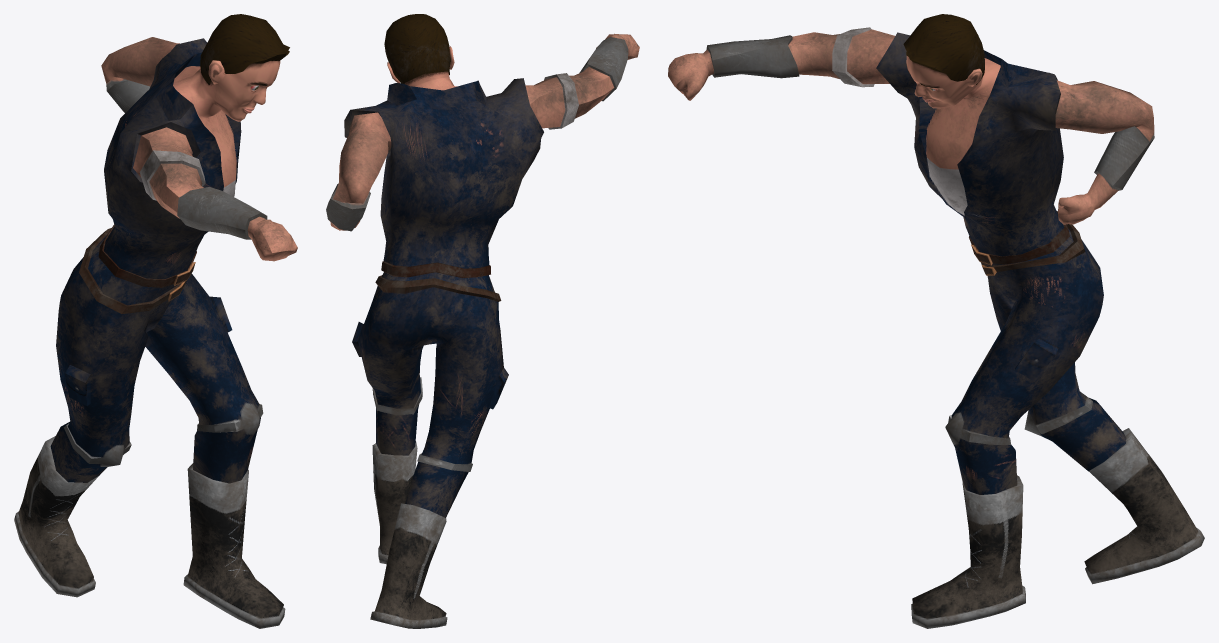
Rendered from Anim_ataque_d2_jugador.0027.obj.
The picture shows the model from 3 angles, left to right: view 1: azimuth 30°, elevation 25°; view 2: azimuth 150°, elevation 25°; view 3: azimuth 270°, elevation 25°; orthographic projection. The views are drawn at different scales.
Visible parts, largest first — view 1: polySurface1; view 2: polySurface1; view 3: polySurface1.
Boxes of the visible parts, x1=… form: polySurface1: x1=14, y1=14, x2=297, y2=628; polySurface1: x1=326, y1=14, x2=639, y2=628; polySurface1: x1=668, y1=14, x2=1204, y2=628.
Size of the model in its own units: 2.82 by 8.91 by 7.17.
